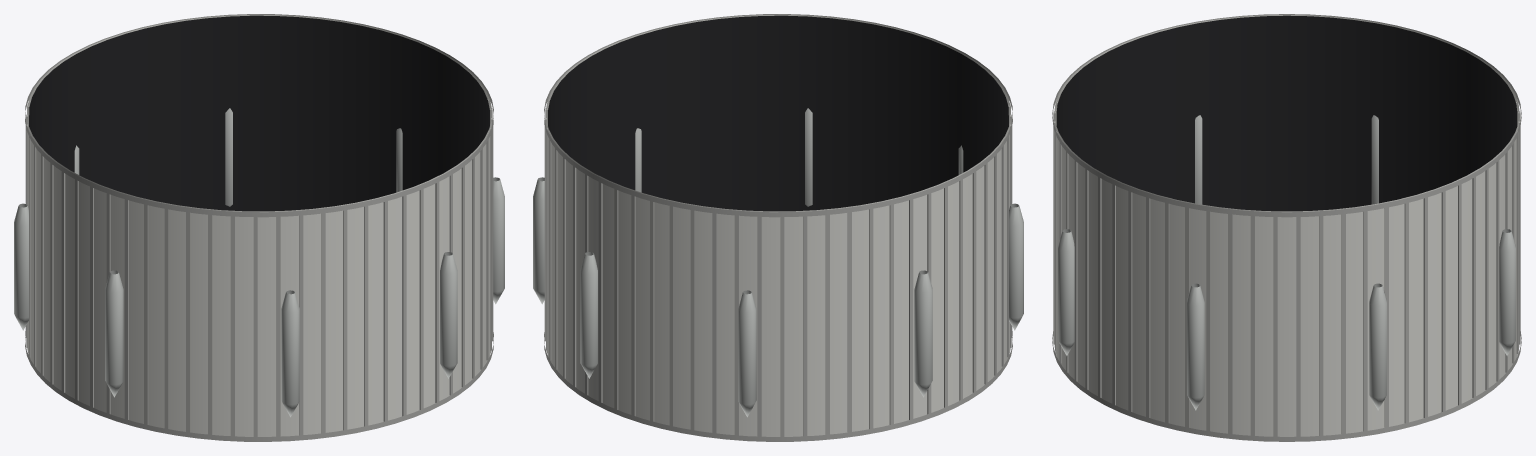
Rendered from saturn_interstage.glb.
The picture shows the model from 3 angles, left to right: view 1: azimuth 30°, elevation 25°; view 2: azimuth 150°, elevation 25°; view 3: azimuth 270°, elevation 25°; orthographic projection.
Parts seen in each view (by area): view 1: model; view 2: model; view 3: model.
Boxes of the visible parts, x1,y1,x2,y2 form: model: (14, 14, 504, 441); model: (533, 14, 1023, 441); model: (1052, 14, 1521, 441).
Size of the model in its own units: 10.18 by 5.5 by 10.18.
1 material, 1 textured.
